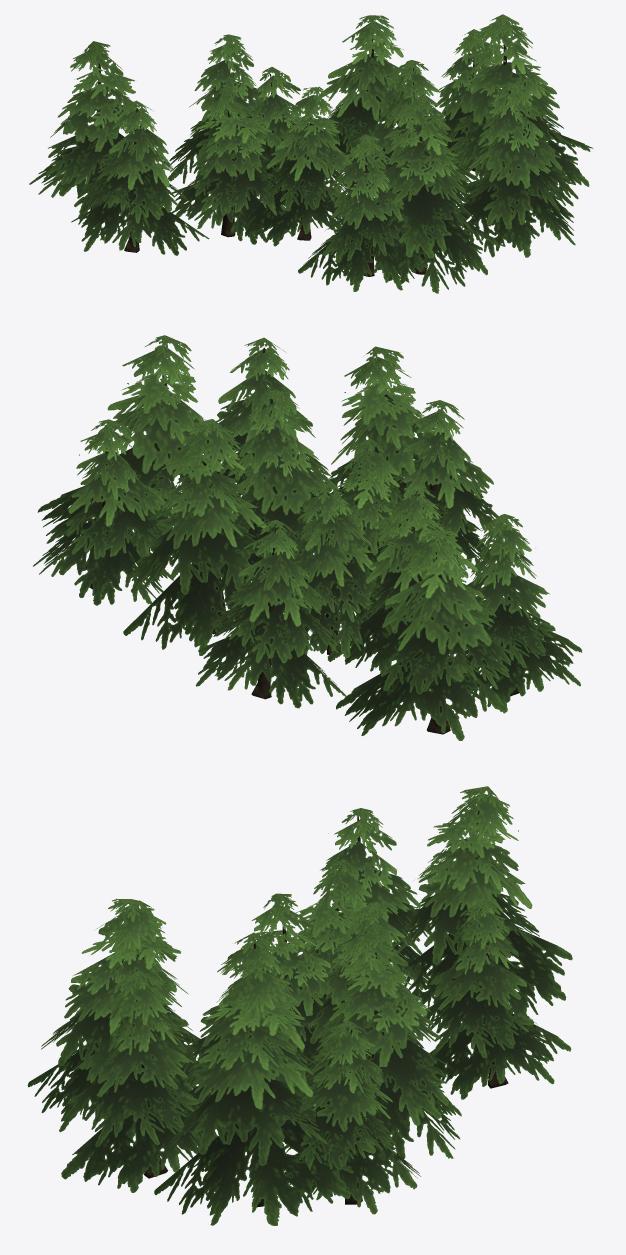
Rendered from Pinepatch_01.fbx.
3 views of the same model, one above another, from view 1: azimuth 30°, elevation 25°; view 2: azimuth 150°, elevation 25°; view 3: azimuth 270°, elevation 25° (orthographic). The views are drawn at different scales.
Visible parts, largest first — view 1: Pinepatch_01; view 2: Pinepatch_01; view 3: Pinepatch_01.
Boxes of the visible parts, bbox=[...] form: Pinepatch_01: bbox=[29, 14, 593, 293]; Pinepatch_01: bbox=[33, 335, 582, 740]; Pinepatch_01: bbox=[27, 786, 572, 1225].
Bounding box in the file's own units: 2941 × 1041 × 2345.
